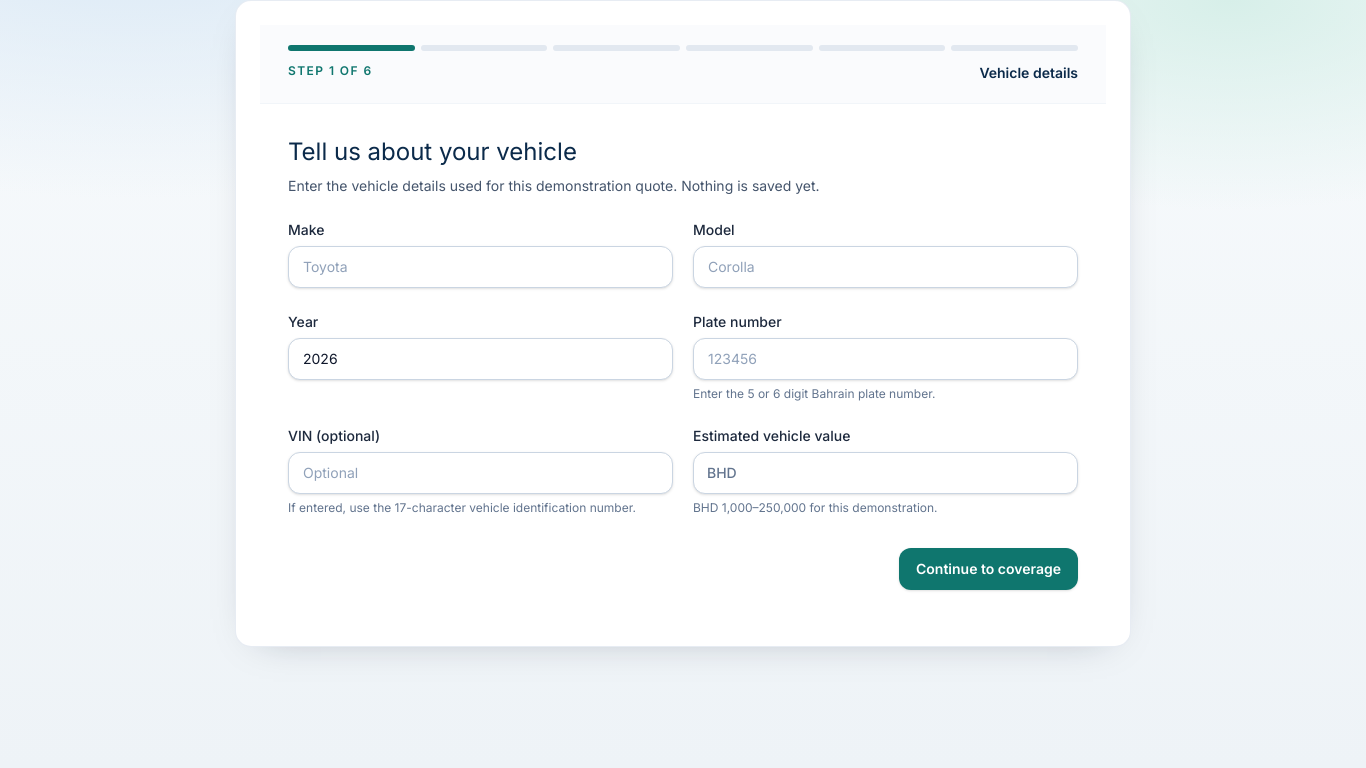
Test case: PolicyPurchaseWizard presentation › allows an unknown free-typed make and model to continue through existing validation
Step 1. Type "CustomBrand" into the dropdown labelled "Make" → [480, 267], box [288, 246, 673, 288]
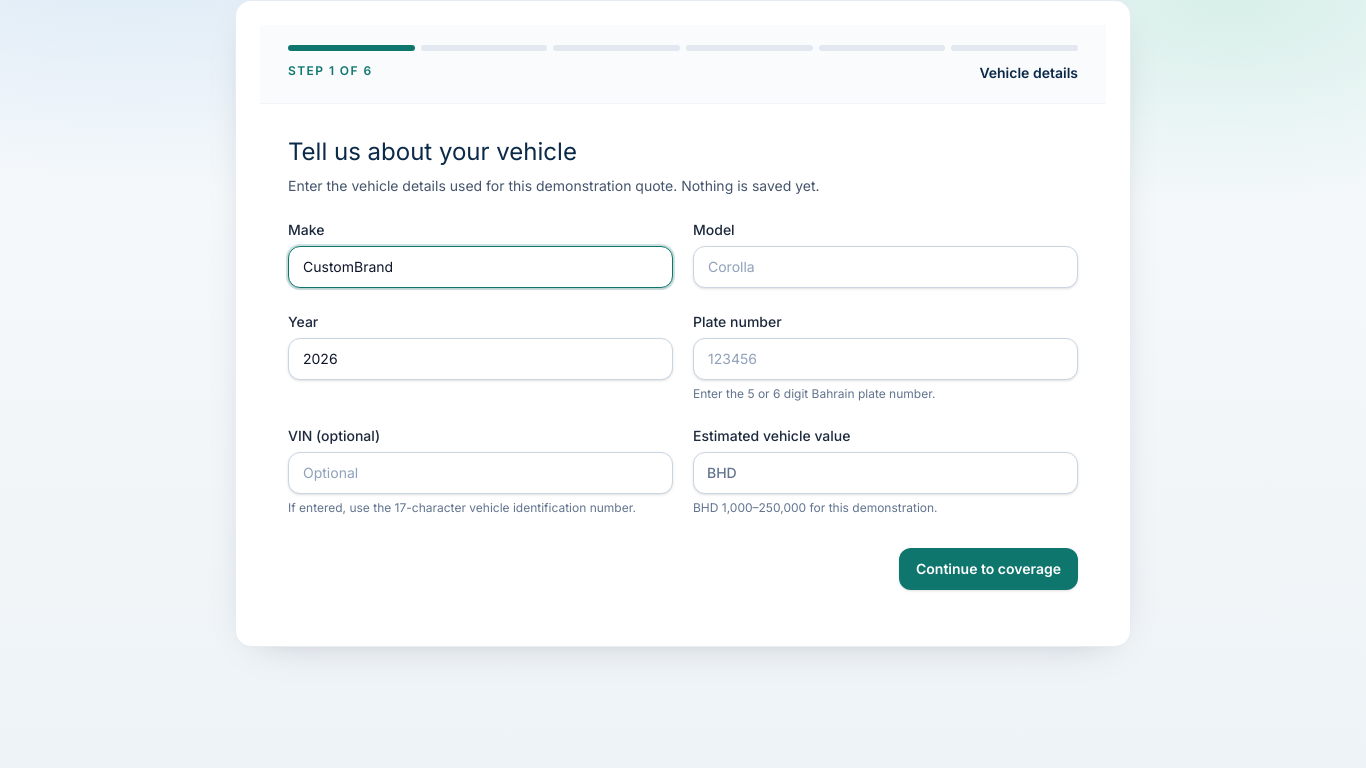
Step 2. Type "CustomModel" into the dropdown labelled "Model" → [886, 267], box [693, 246, 1078, 288]
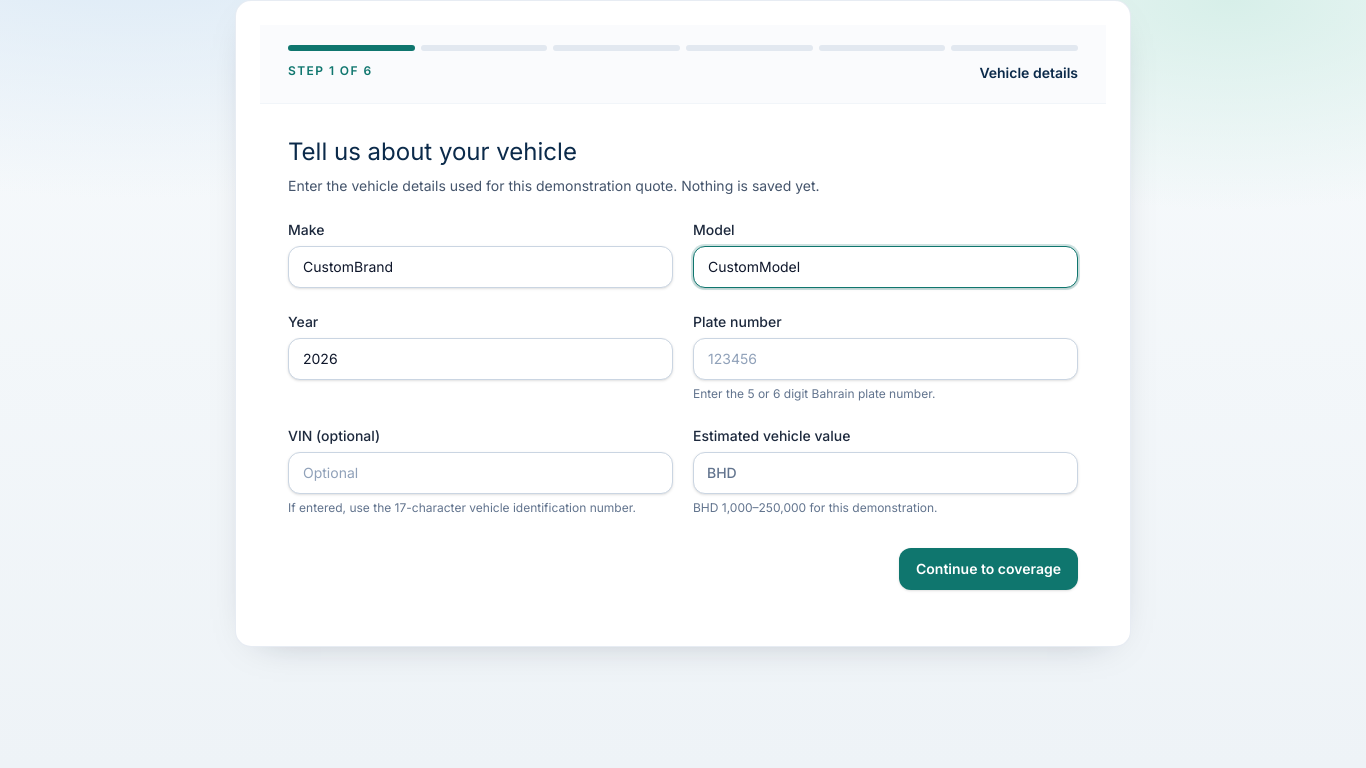
Step 3. Type "927410" into the field labelled "Plate number" → [886, 359], box [693, 338, 1078, 380]
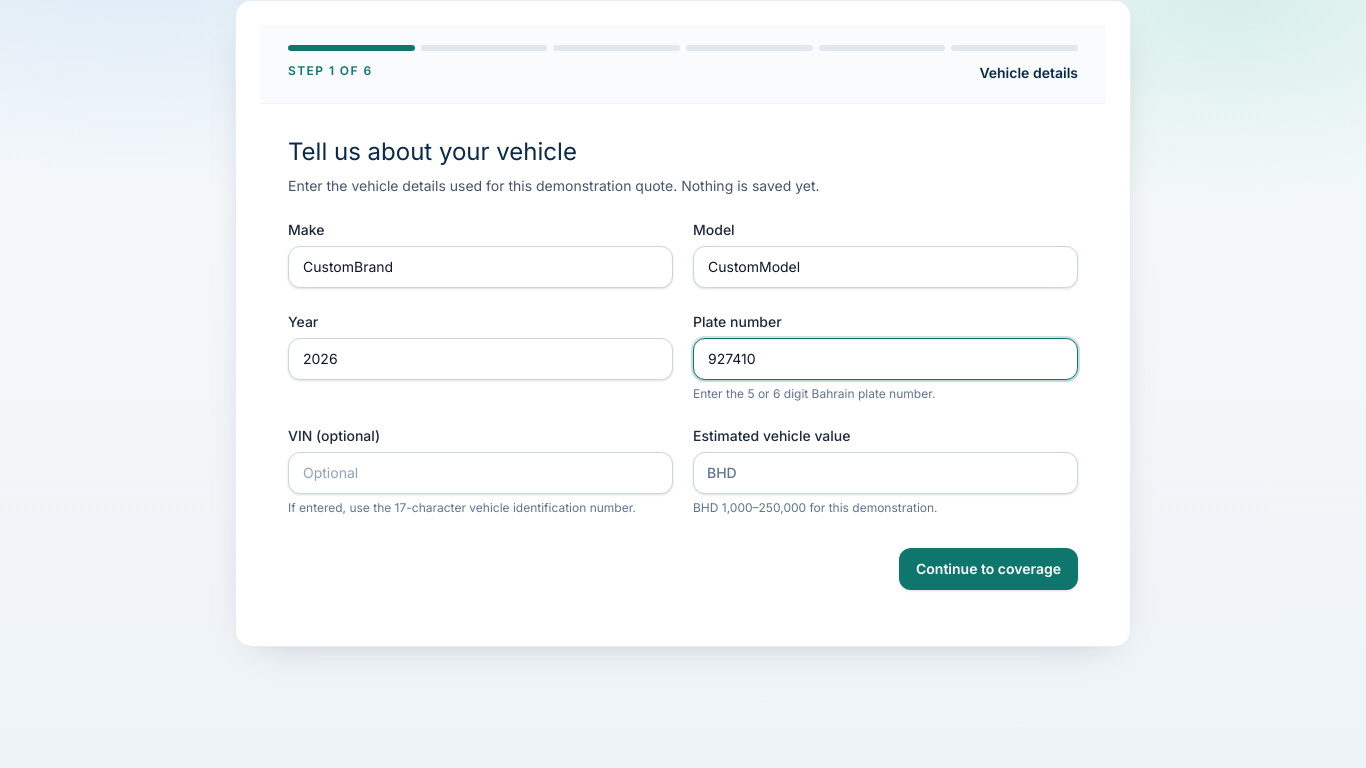
Step 4. Type "9500" into the number field labelled "Estimated vehicle value" → [886, 473], box [693, 452, 1078, 494]
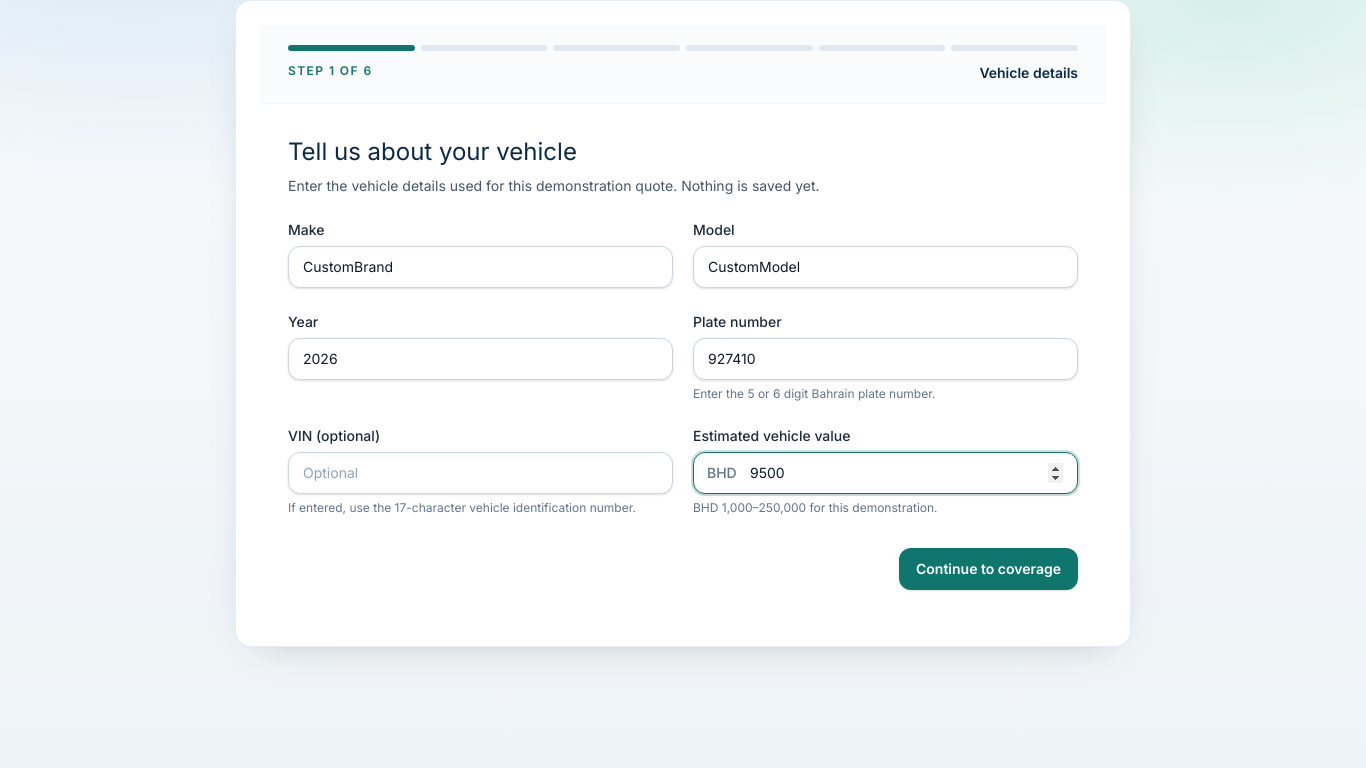
Step 5. Click the button "Continue to coverage" → [988, 569], box [899, 548, 1078, 590]
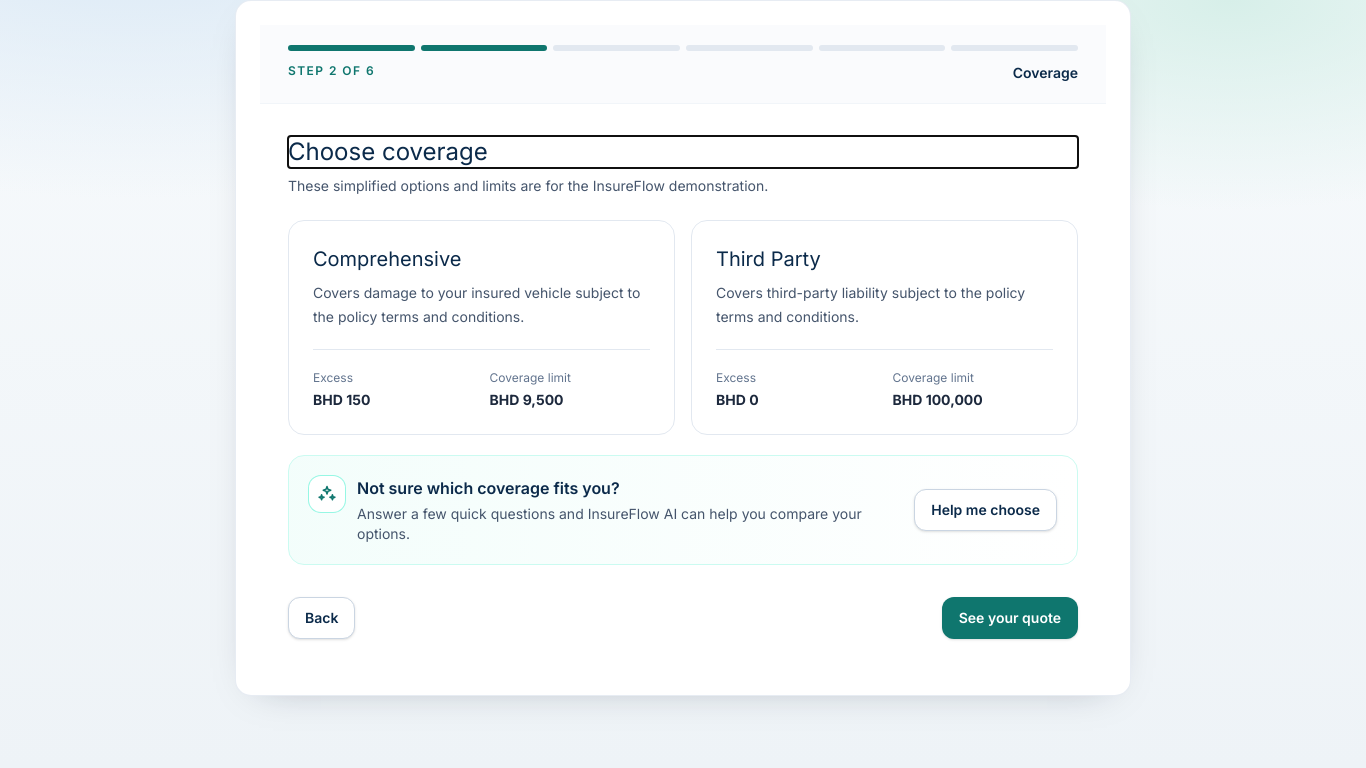
Check: the heading "Choose coverage" is shown, box [288, 137, 488, 166]
